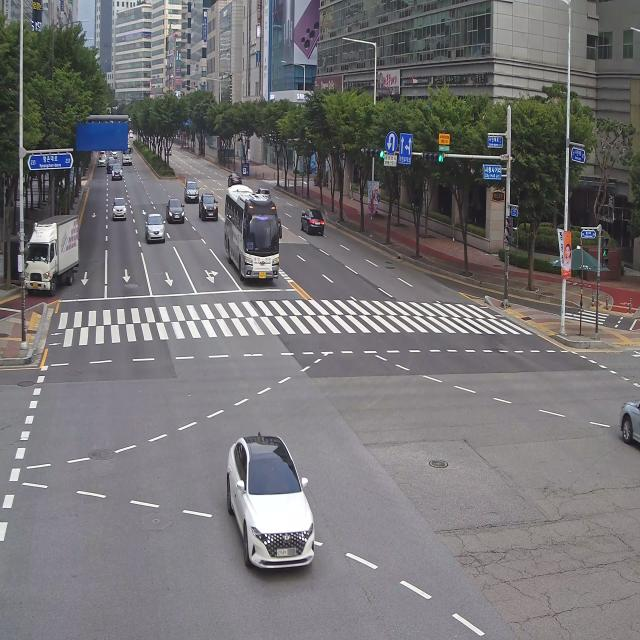Bus: (217, 179, 287, 299)
Car: (215, 424, 328, 584), (289, 199, 330, 241), (137, 197, 169, 248), (104, 193, 133, 230), (180, 165, 202, 210), (198, 188, 224, 226), (163, 187, 188, 224), (110, 156, 124, 186)
Truck: (22, 197, 83, 301)
